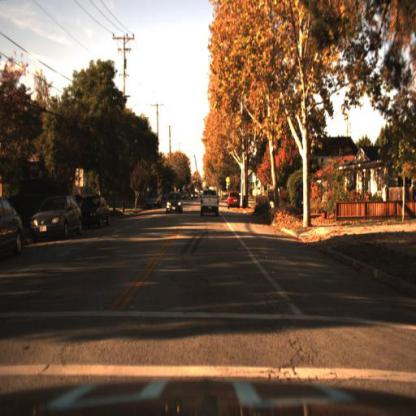car: (31, 195, 85, 242), (1, 197, 25, 261), (79, 193, 113, 233), (200, 187, 220, 218), (167, 192, 183, 213), (228, 193, 242, 210), (189, 191, 200, 203)
